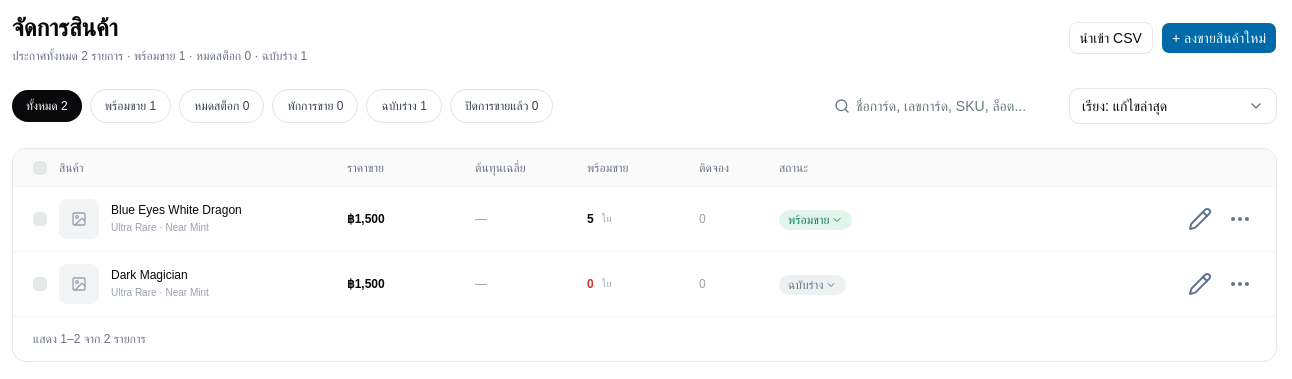
ProductsContent Integration › filters by status through the backend
This screenshot has width=1292, height=379.
Expected: the text "Blue Eyes White Dragon" is shown, [111,202,242,218]
Expected: the text "Dark Magician" is shown, [111,268,188,282]
Click the button "พร้อมขาย 1" at [130, 106], box [90,89,171,123]
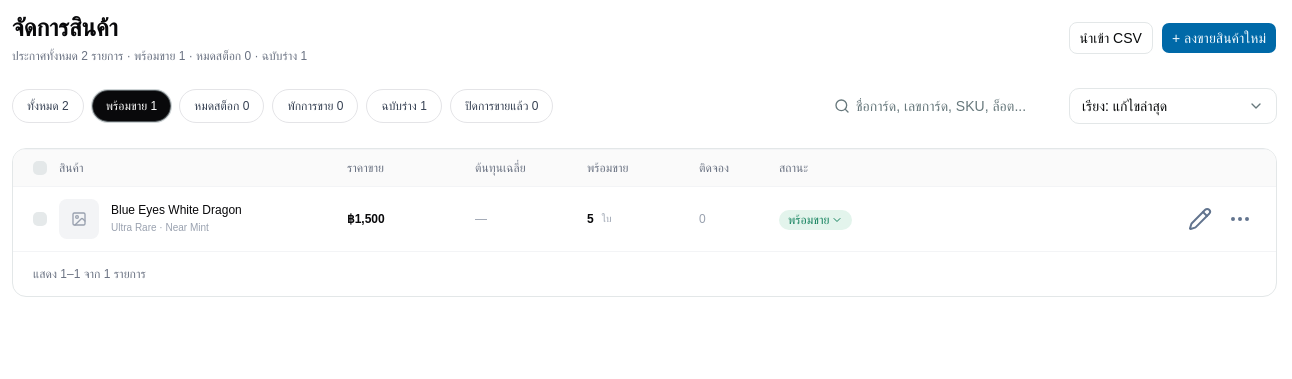
Expected: the text "Blue Eyes White Dragon" is shown, [111,202,242,218]
Expected: the text "Dark Magician" is gone
Click the button "ทั้งหมด 2" at [48, 106], box [12,89,84,123]
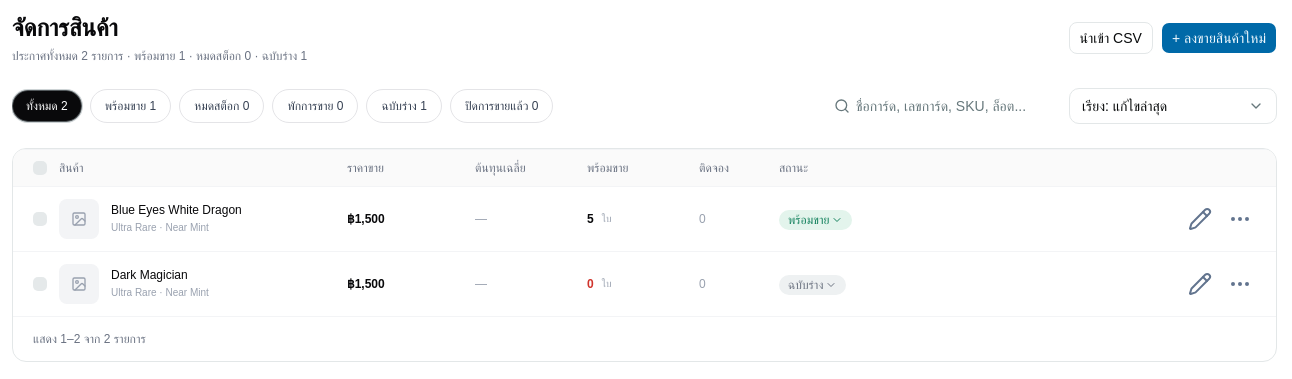
Expected: the text "Dark Magician" is shown, [111,268,188,282]
